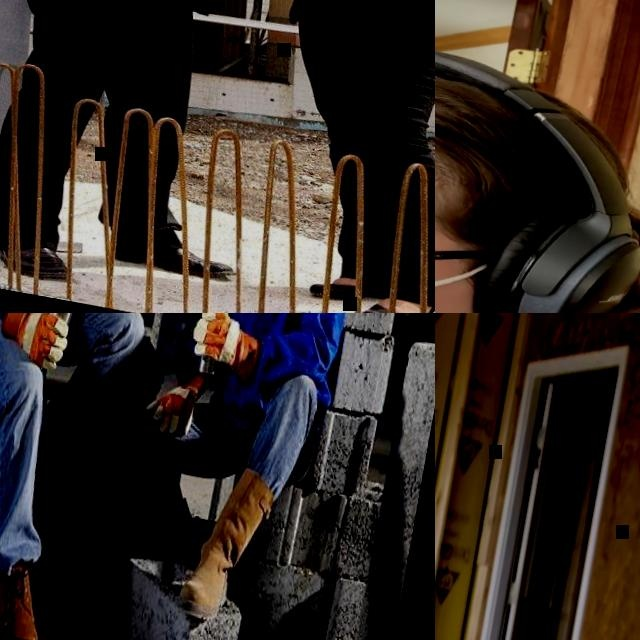NO-Hardhat: (435, 0, 637, 208)
NO-Safety Vest: (215, 313, 337, 408)
Person: (0, 0, 336, 311), (108, 313, 379, 637), (197, 0, 435, 313), (0, 313, 202, 640), (435, 0, 640, 313), (435, 326, 523, 640)
